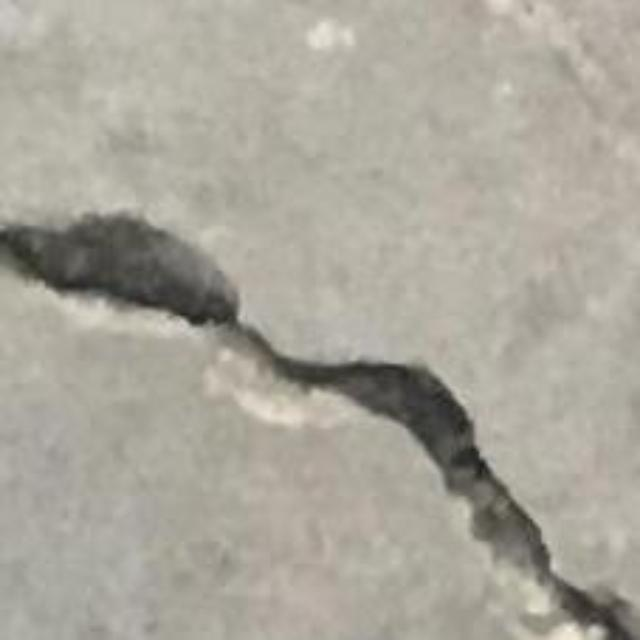crack: (0, 212, 639, 639)
